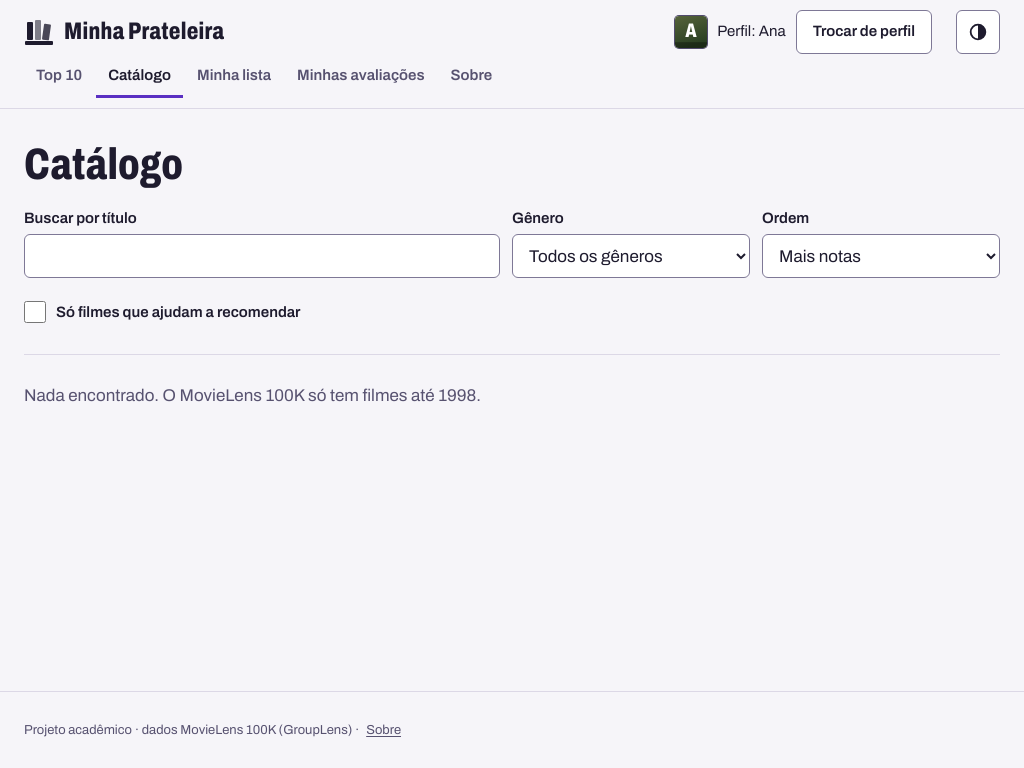
Test: erro preso ao perfil e conclusão única › falha a partir de outra tela leva ao onboarding com o erro
Expected: the text "Perfil: Ana" is shown, [717,20,786,44]
Click the link "Top 10". click: x=59, y=75
box: [36,67,82,83]
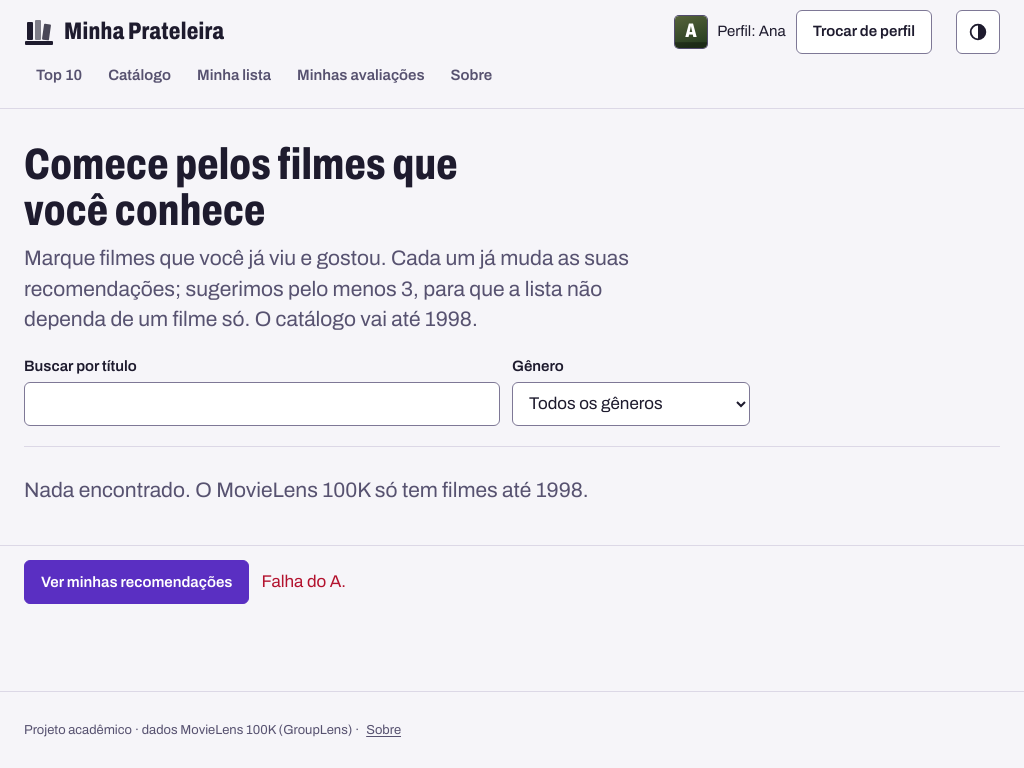
Result: the text "Marque filmes que você já viu e gostou" is shown at [24,247,629,330]
Result: the message reads "Falha do A." at [261,572,346,591]
